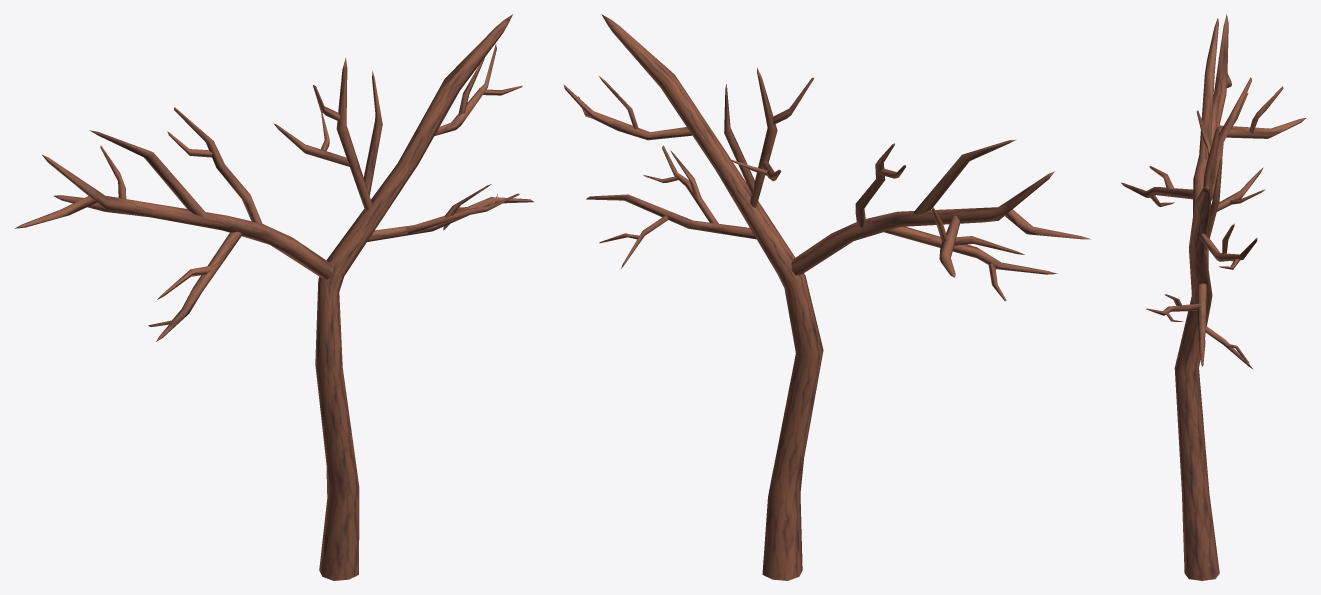
File: DeadTree_4.glb
3 views of the same model, side by side, from view 1: azimuth 30°, elevation 25°; view 2: azimuth 150°, elevation 25°; view 3: azimuth 270°, elevation 25° (orthographic). The views are drawn at different scales.
Bounding box in the file's own units: 4.81 × 4.61 × 1.67.
Materials: 1 (1 with a texture image).
